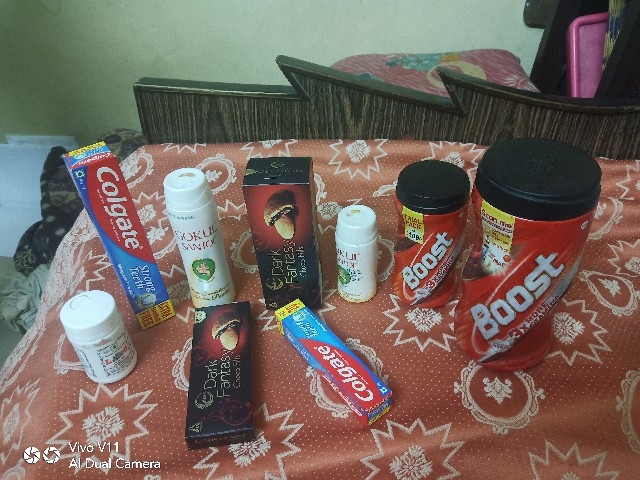boost big: (456, 145, 611, 368)
boost small: (391, 139, 469, 310)
colgatetoothpaste big: (61, 107, 172, 328)
colgatetoothpaste small: (269, 296, 396, 429)
darkfantasy big: (232, 145, 329, 309)
darkfantasy small: (180, 287, 260, 449)
gokulsantol big: (165, 158, 239, 305)
gokulsantol small: (334, 199, 377, 310)
lgasafoetidapowder small: (53, 275, 133, 399)
